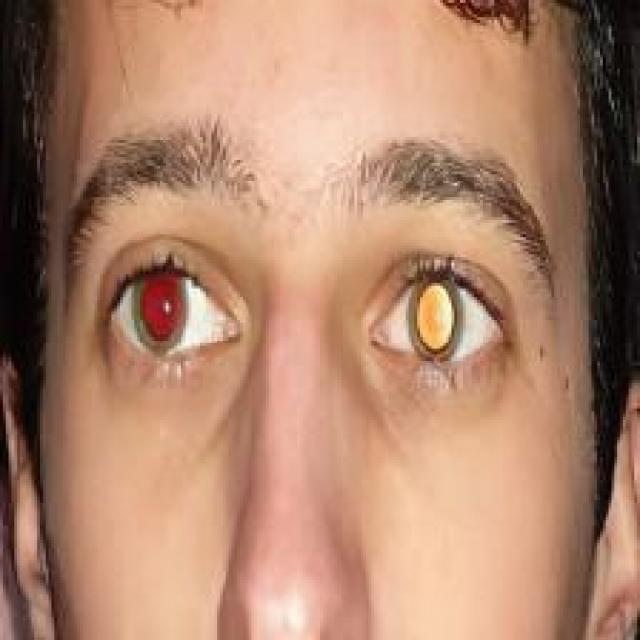reflexo-alterado: (354, 232, 535, 402)
reflexo-normal: (88, 216, 255, 402)
